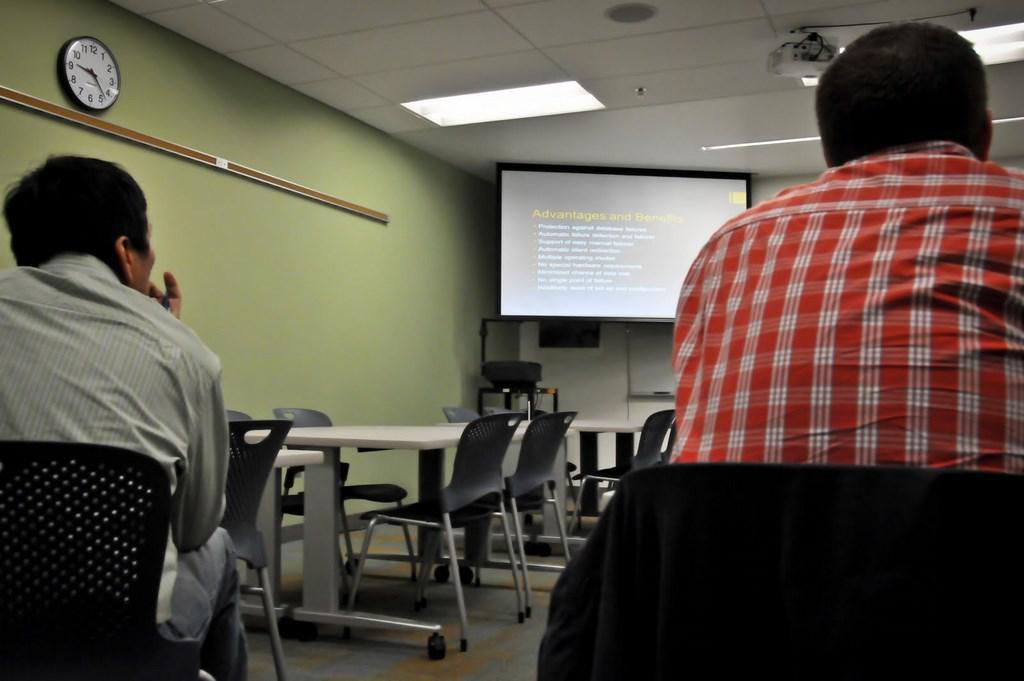Chair: (528, 472, 1020, 677), (0, 442, 218, 680), (336, 415, 523, 652), (270, 412, 424, 596), (222, 422, 297, 680), (499, 414, 581, 628), (556, 411, 680, 536), (227, 410, 301, 551), (656, 412, 677, 468), (473, 404, 515, 427), (446, 407, 473, 426)
